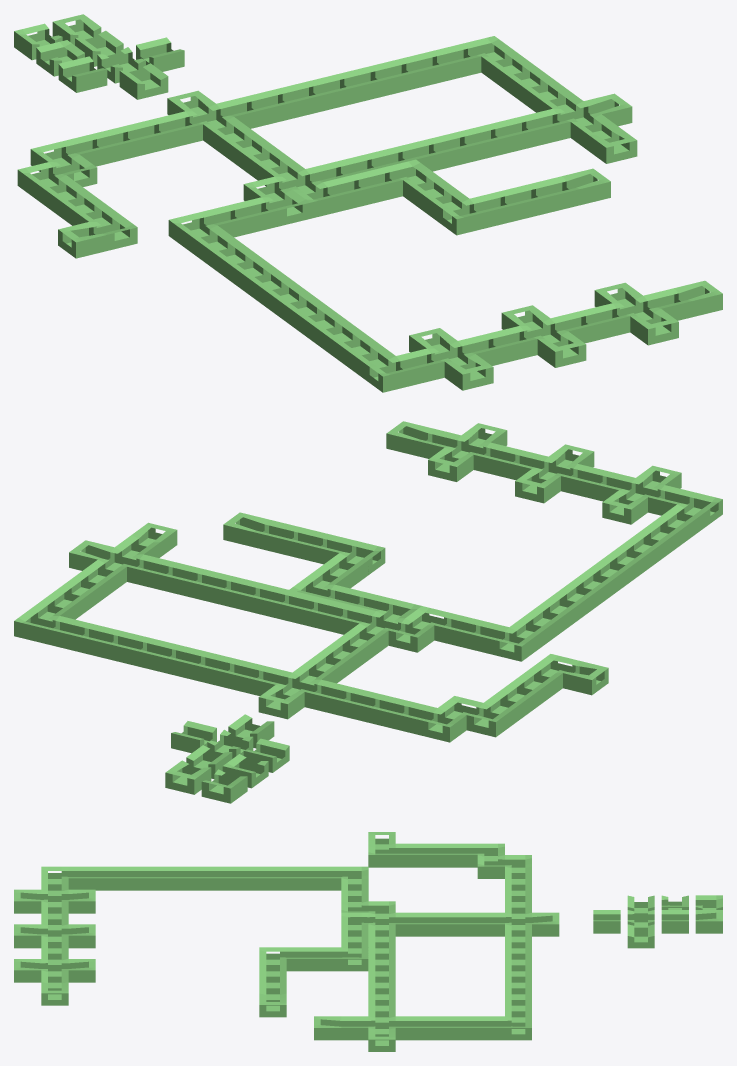
The model's file is object_33_lev1_lev2.glb.
The picture shows the model from 3 angles, top to bottom: view 1: azimuth 30°, elevation 25°; view 2: azimuth 150°, elevation 25°; view 3: azimuth 270°, elevation 25°; orthographic projection. The views are drawn at different scales.
Parts seen in each view (by area): view 1: object_33_lev1_lev2; view 2: object_33_lev1_lev2; view 3: object_33_lev1_lev2.
Part boxes in pixels (box(x1,y1,x2,y2)): object_33_lev1_lev2: box(14, 14, 722, 392); object_33_lev1_lev2: box(14, 421, 722, 803); object_33_lev1_lev2: box(14, 832, 722, 1051).
Size of the model in its own units: 44.65 by 1.24 by 64.5.
